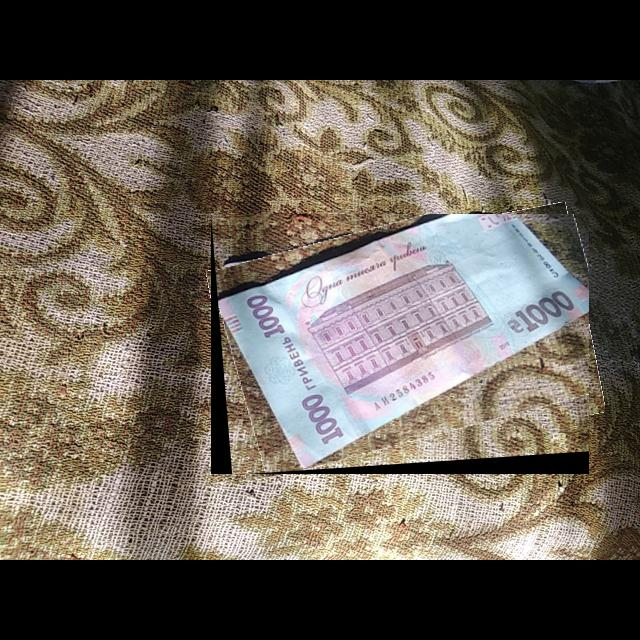1000uah: (217, 214, 590, 472)
